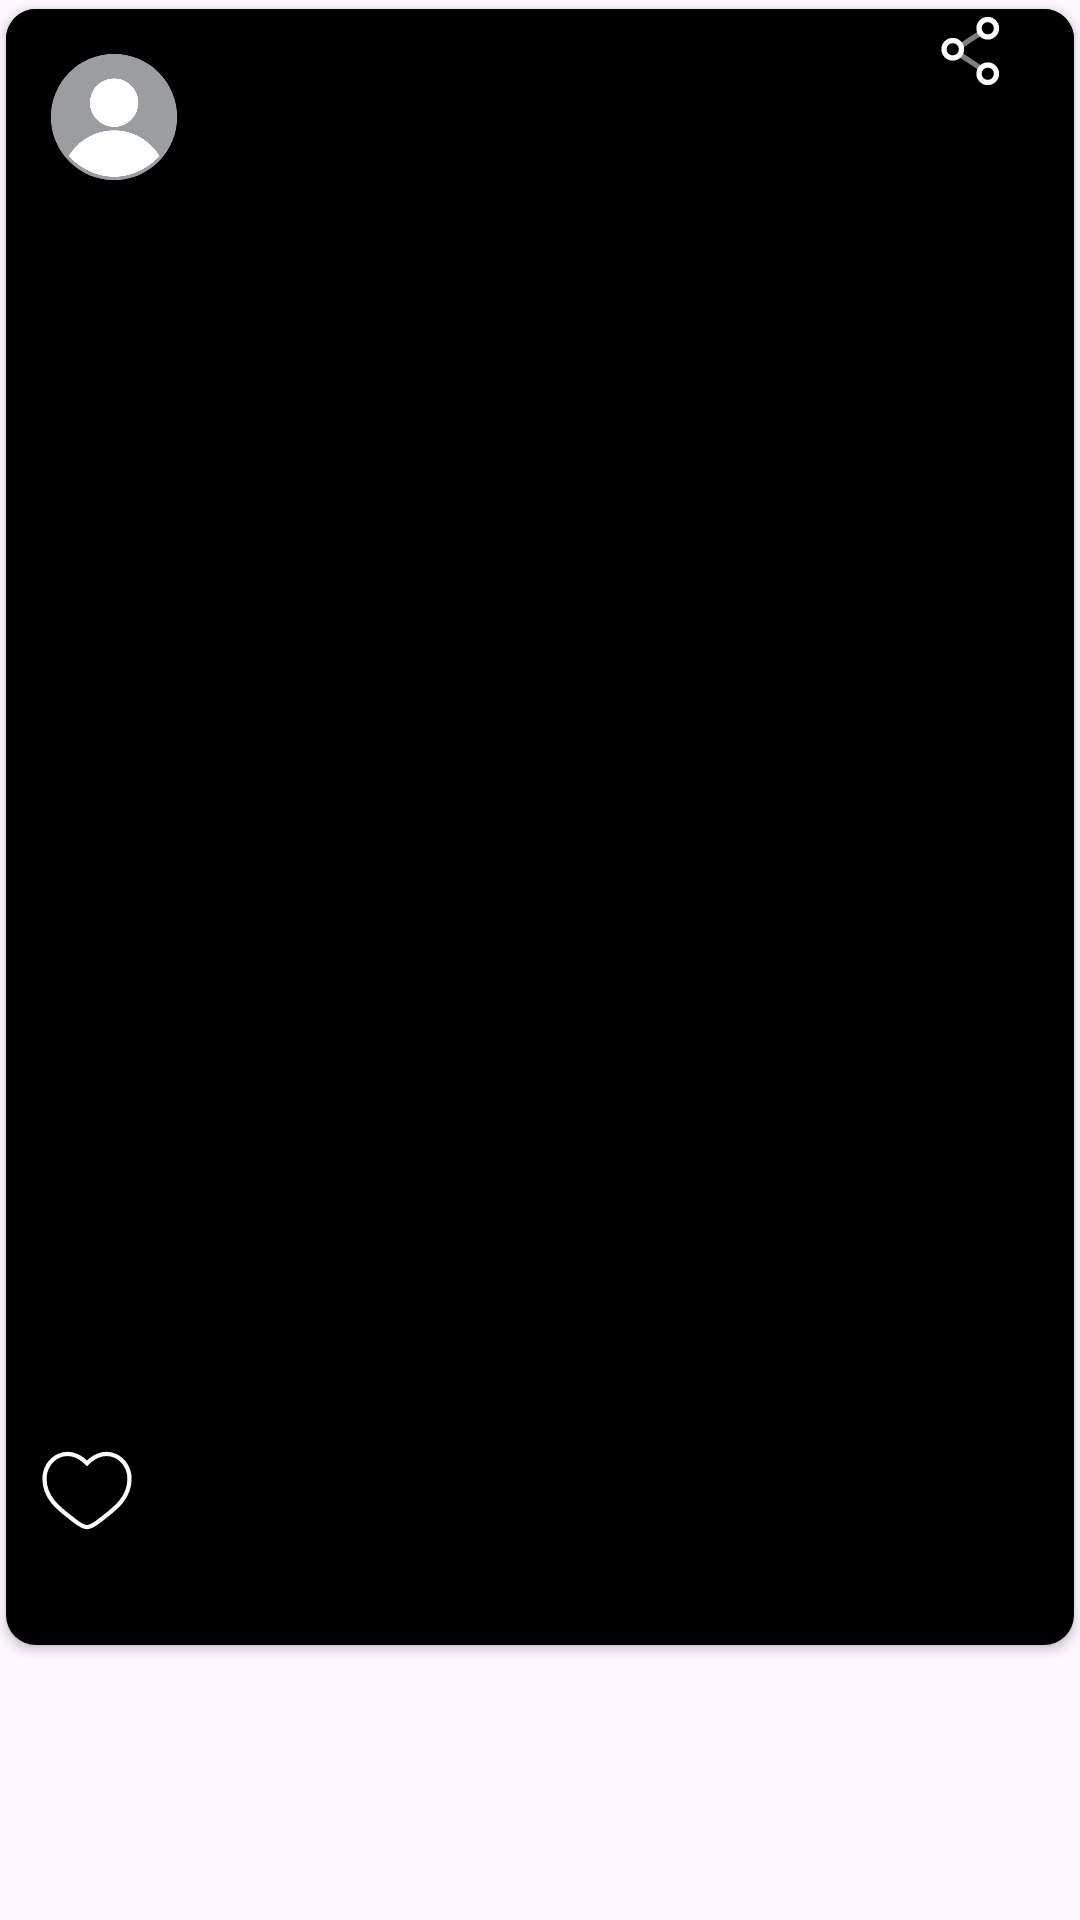

Point at icon controls on the screen. Image size 1080 × 1920, points as (x,y).
share: (970,51)
user profile standard: (114,117)
